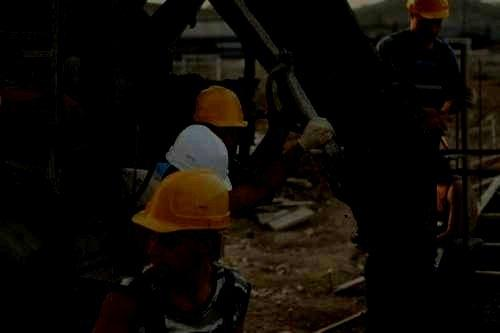helmet: (131, 167, 232, 279), (164, 124, 233, 191), (195, 85, 248, 128), (407, 1, 450, 39)
